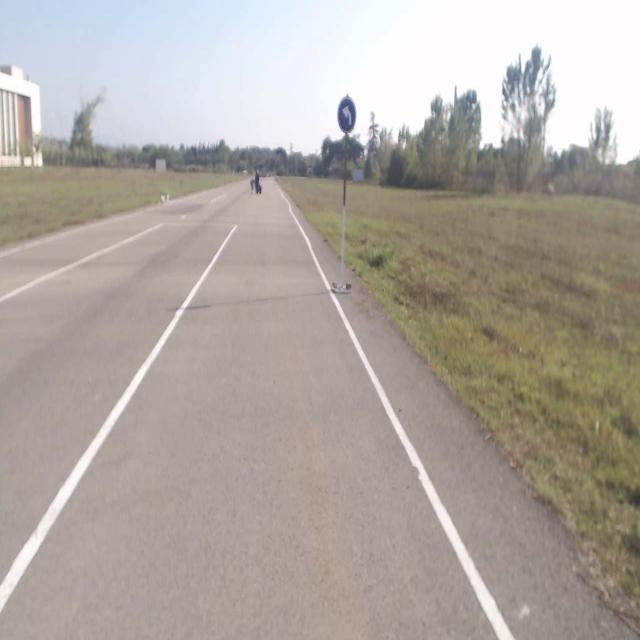sol: (338, 97, 356, 131)
